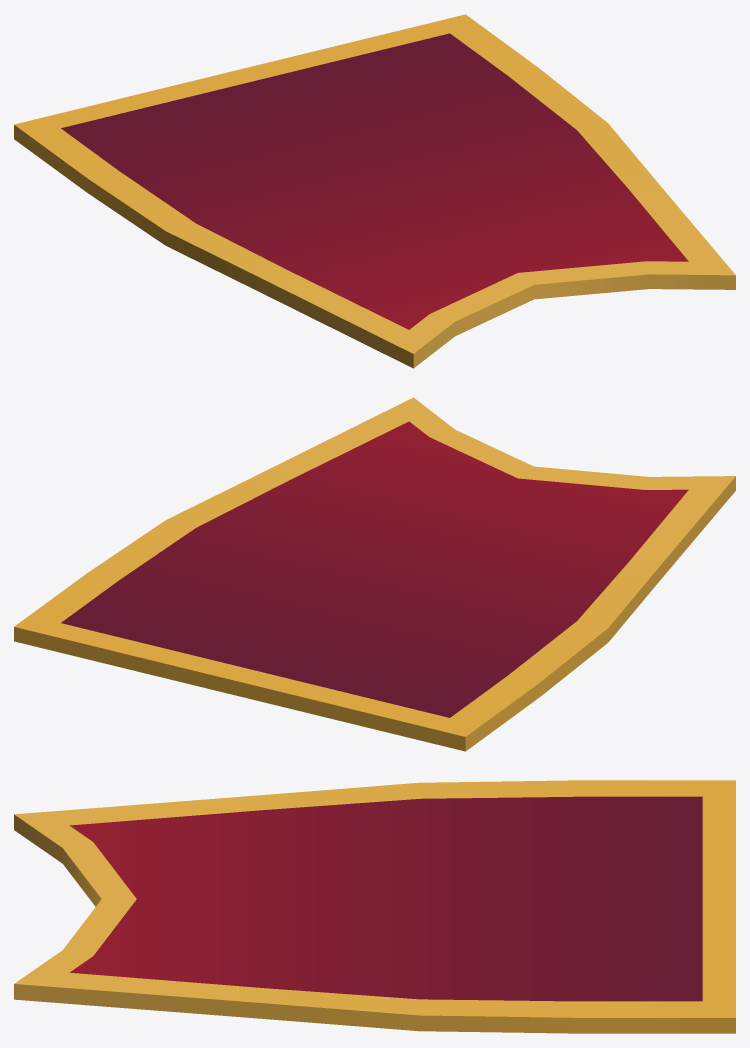
File: cloak_02.fbx
3 views of the same model, one above another, from view 1: azimuth 30°, elevation 25°; view 2: azimuth 150°, elevation 25°; view 3: azimuth 270°, elevation 25° (orthographic). The views are drawn at different scales.
Parts seen in each view (by area): view 1: cloak_02; view 2: cloak_02; view 3: cloak_02.
Boxes of the visible parts, x1,y1,x2,y2 form: cloak_02: (14,14,735,368); cloak_02: (14,397,735,751); cloak_02: (14,780,735,1033).
Size of the model in its own units: 0.5527 by 0.0171 by 0.7099.
Materials: 2 (2 with a texture image).
